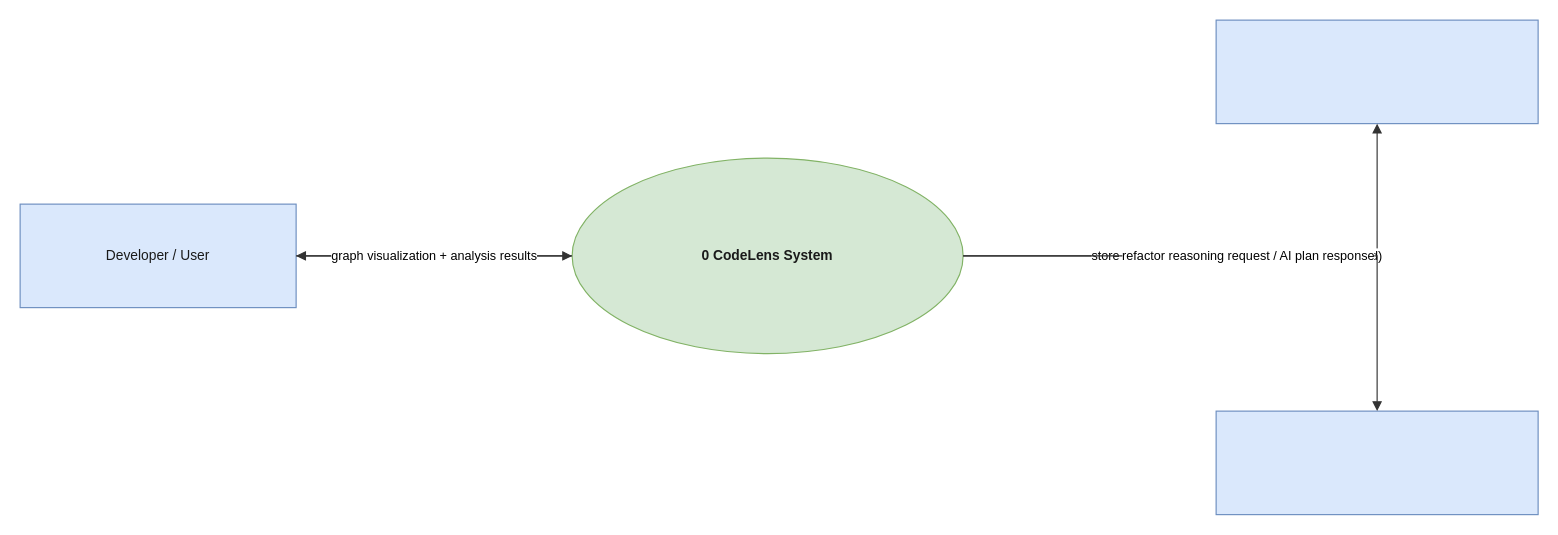
Image size: 1558x535. Some labels were removed from this diagram. Here are the shapes that lost their labels. From the top down, the centre of each, then its label:
At point (1376, 71): "Neo4j Aura (cloud graph DB)".
At point (1376, 462): "Groq LLM API".
